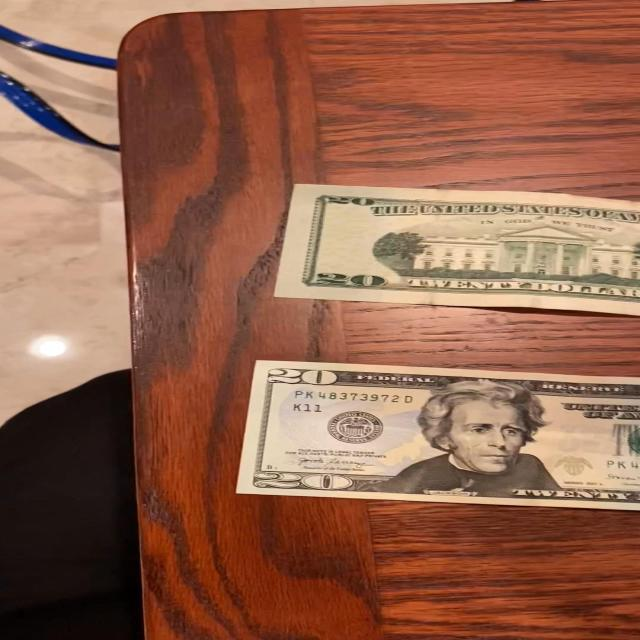20-Back: (265, 181, 640, 328)
20-Front: (228, 354, 640, 516)
